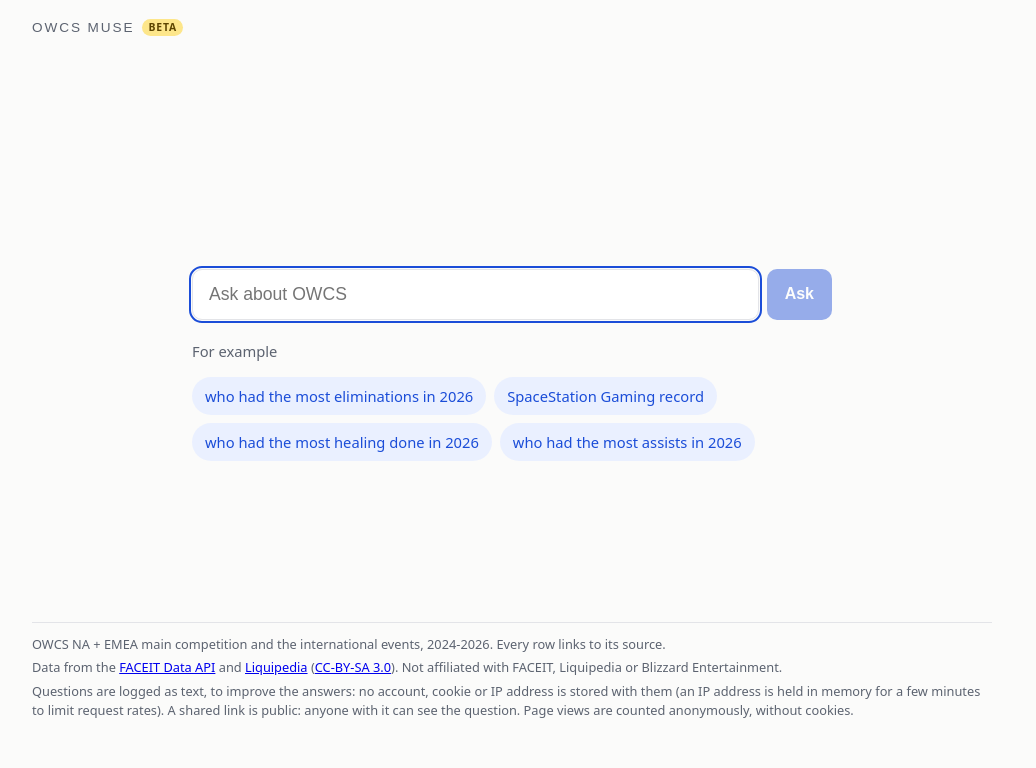
Scenario: asking › never shows an id echoed back by the API as the question
In the field: (475,294) [192, 269, 759, 320], type "sugarfree record vs zeruhh"
Then press Enter
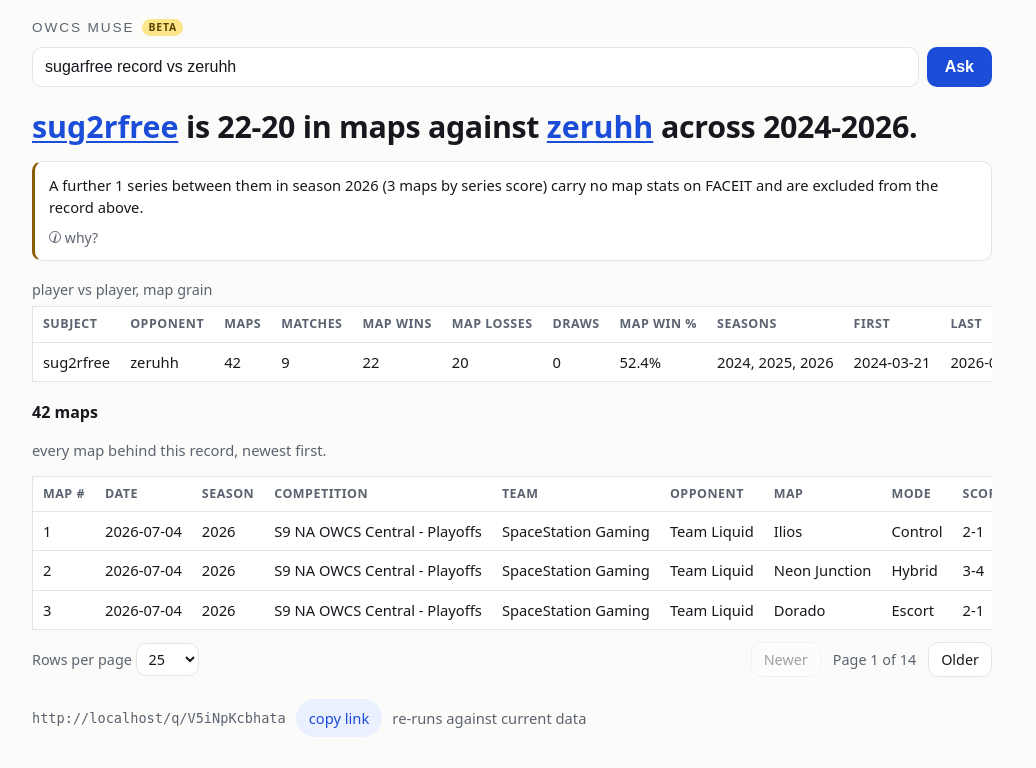
Check: the element with test id "answer" is shown
Check: the field holds "sugarfree record vs zeruhh", box [32, 47, 919, 87]
